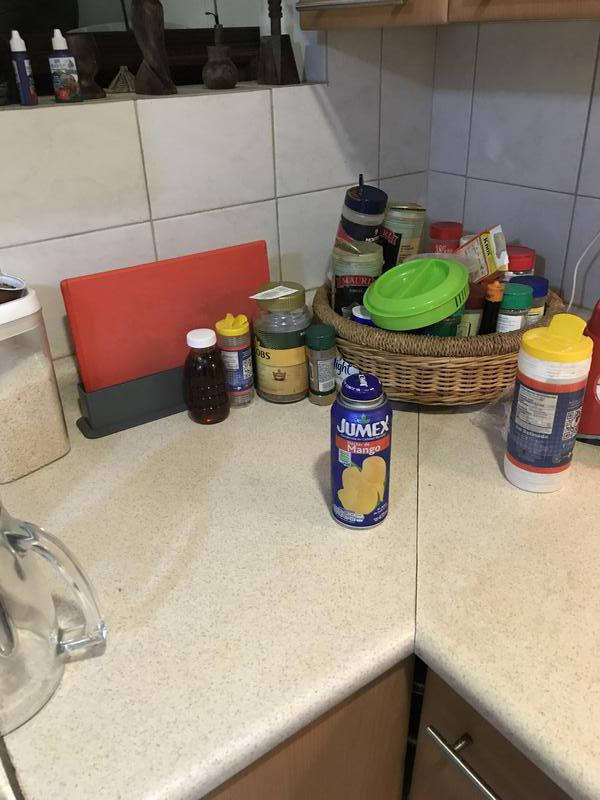jugo_jumex: (329, 370, 392, 529)
